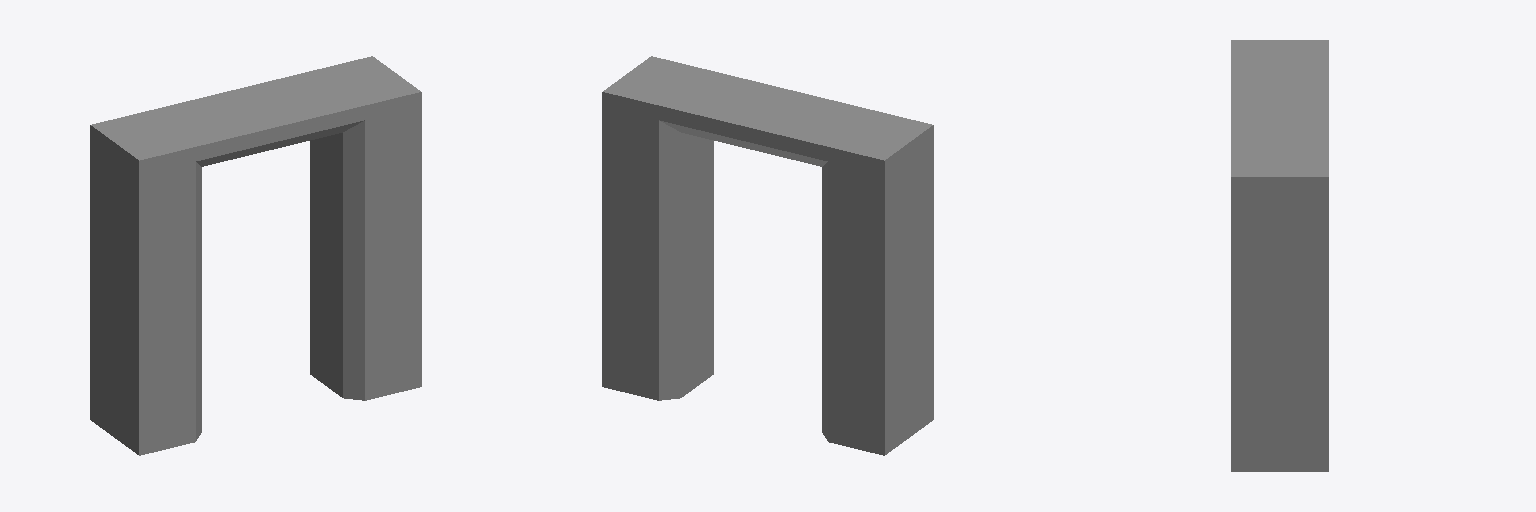
The model's file is struct_wall_cell_door_main.obj.
The picture shows the model from 3 angles: view 1: azimuth 30°, elevation 25°; view 2: azimuth 150°, elevation 25°; view 3: azimuth 270°, elevation 25°; orthographic projection.
Parts seen in each view (by area): view 1: object1; view 2: object1; view 3: object1.
Part boxes in pixels (x1,y1,x2,y2): object1: (90,56,421,455); object1: (602,56,933,455); object1: (1231,40,1328,471).
Size of the model in its own units: 1 by 1 by 0.3.